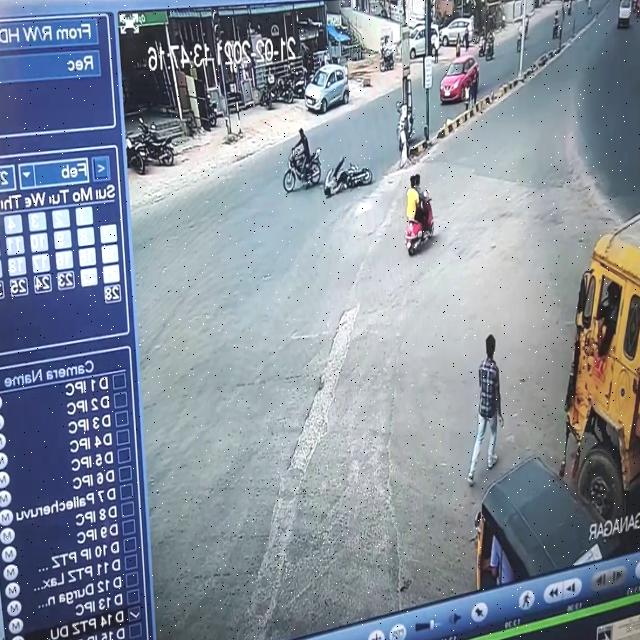accident: (317, 146, 378, 210)
